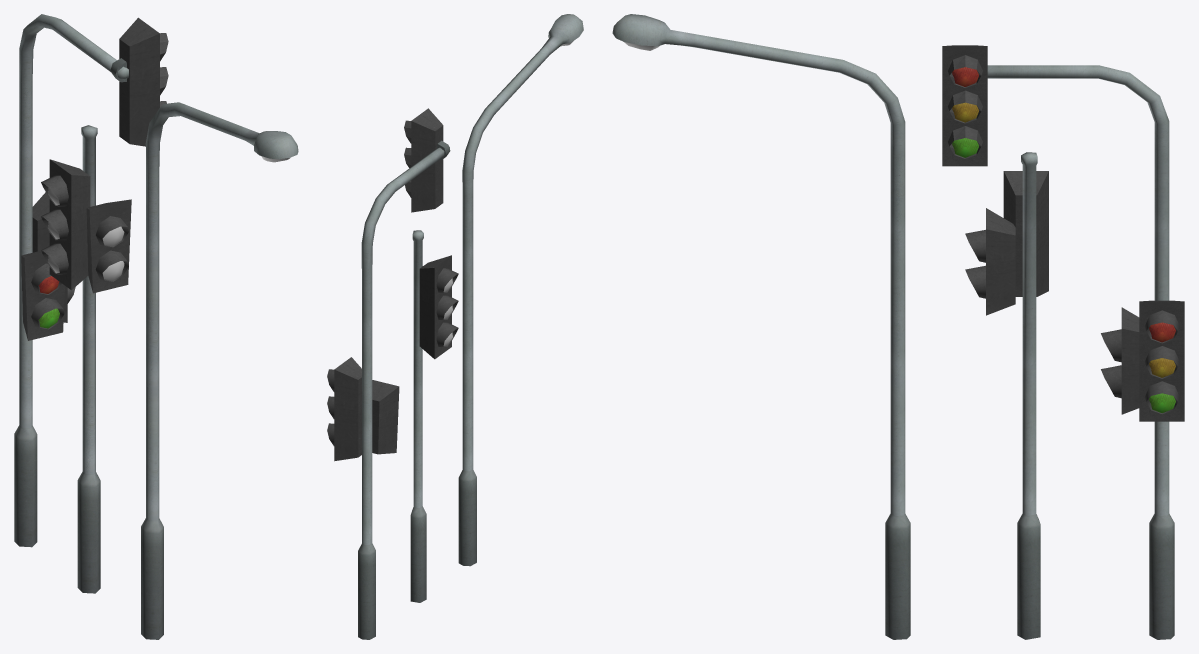
File: Street_light_mod.FBX
3 renders of one model, left to right at view 1: azimuth 30°, elevation 25°; view 2: azimuth 150°, elevation 25°; view 3: azimuth 270°, elevation 25°, orthographic. The views are drawn at different scales.
Visible parts, largest first — view 1: Street_light_right_mod, Street_light_left_mod, Street_light_mod, Street_redgreelight_2, Street_redgreelight_1; view 2: Street_light_right_mod, Street_light_mod, Street_light_left_mod; view 3: Street_light_right_mod, Street_light_left_mod, Street_light_mod, Street_redgreelight_1.
Boxes of the visible parts, x1=… form: Street_light_right_mod: x1=14, y1=14, x2=168, y2=547; Street_light_left_mod: x1=41, y1=125, x2=131, y2=593; Street_light_mod: x1=141, y1=102, x2=298, y2=639; Street_redgreelight_2: x1=48, y1=188, x2=124, y2=280; Street_redgreelight_1: x1=38, y1=276, x2=59, y2=328; Street_light_right_mod: x1=327, y1=108, x2=450, y2=639; Street_light_mod: x1=458, y1=14, x2=583, y2=566; Street_light_left_mod: x1=410, y1=230, x2=458, y2=602; Street_light_right_mod: x1=942, y1=45, x2=1184, y2=639; Street_light_left_mod: x1=965, y1=152, x2=1048, y2=639; Street_light_mod: x1=612, y1=14, x2=910, y2=639; Street_redgreelight_1: x1=952, y1=67, x2=1175, y2=412.
Size of the model in its own units: 2.19 by 12.91 by 10.84.
